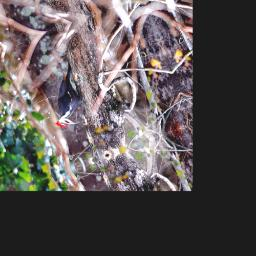Woodpecker: (31, 60, 92, 133)
